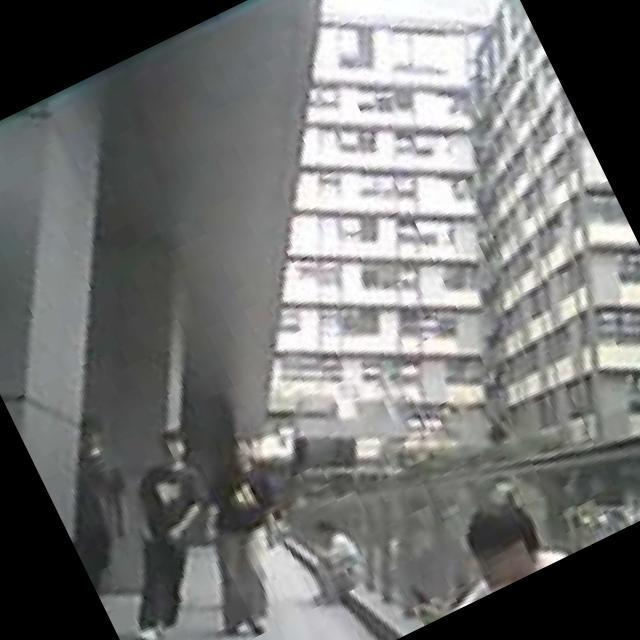person: (53, 417, 257, 640), (128, 425, 330, 640), (24, 408, 169, 599), (416, 478, 574, 611), (298, 510, 382, 604)
